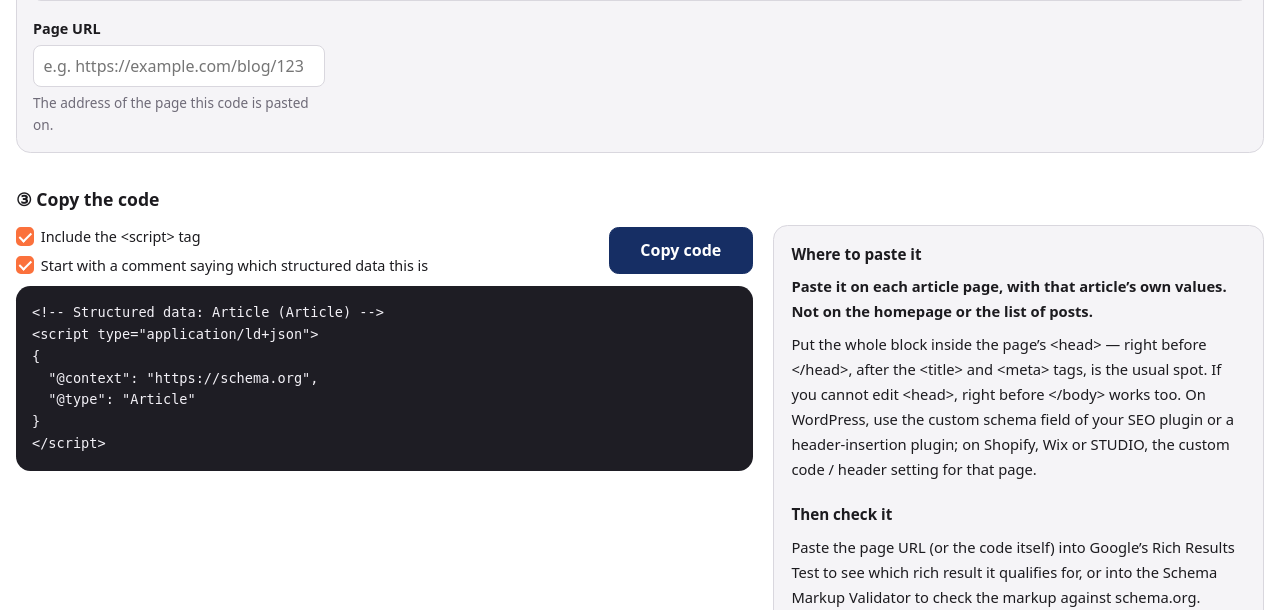
Test case: StructuredDataTool › copies the code to the clipboard
(page scrolled)
Click the button "Copy code". click: (681, 251)
box: [609,228,753,274]
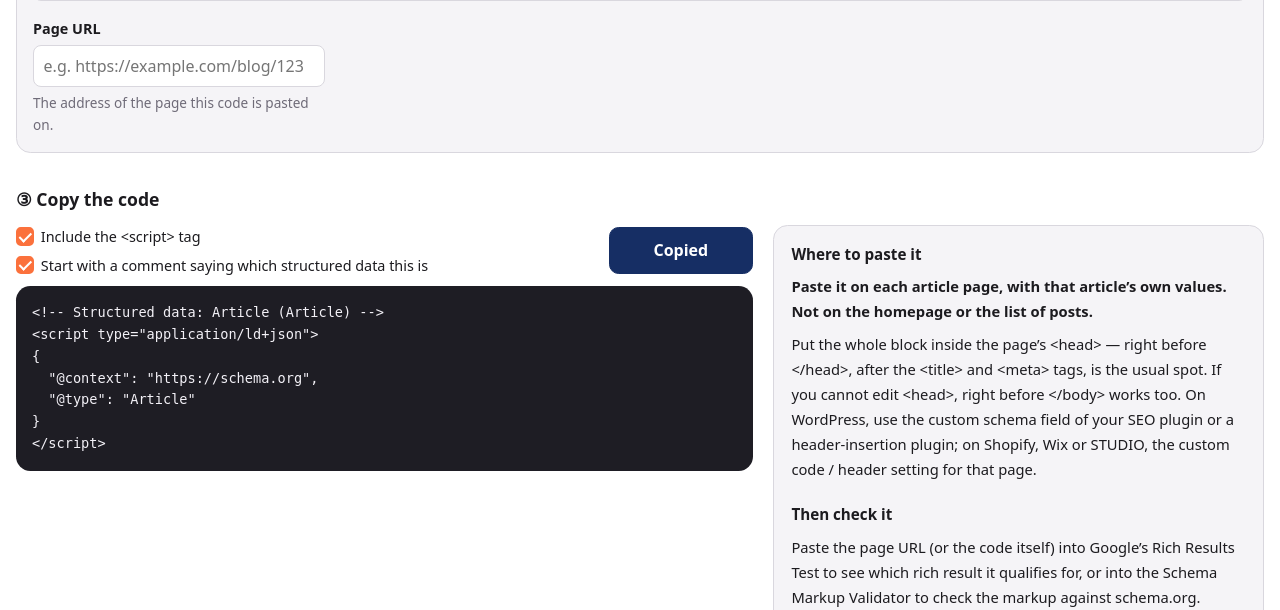
Expected: the button "Copied" is shown, [609,228,753,274]
